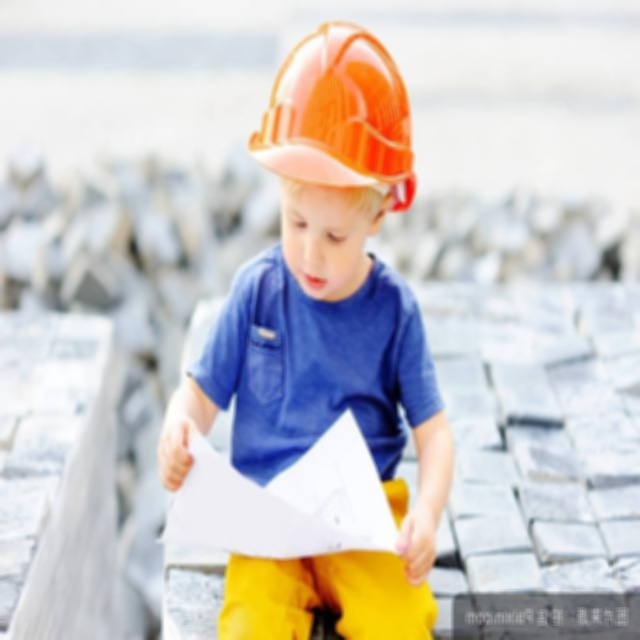Con_Casco: (247, 25, 414, 278)
Sin_Chaleco: (227, 247, 422, 550)
